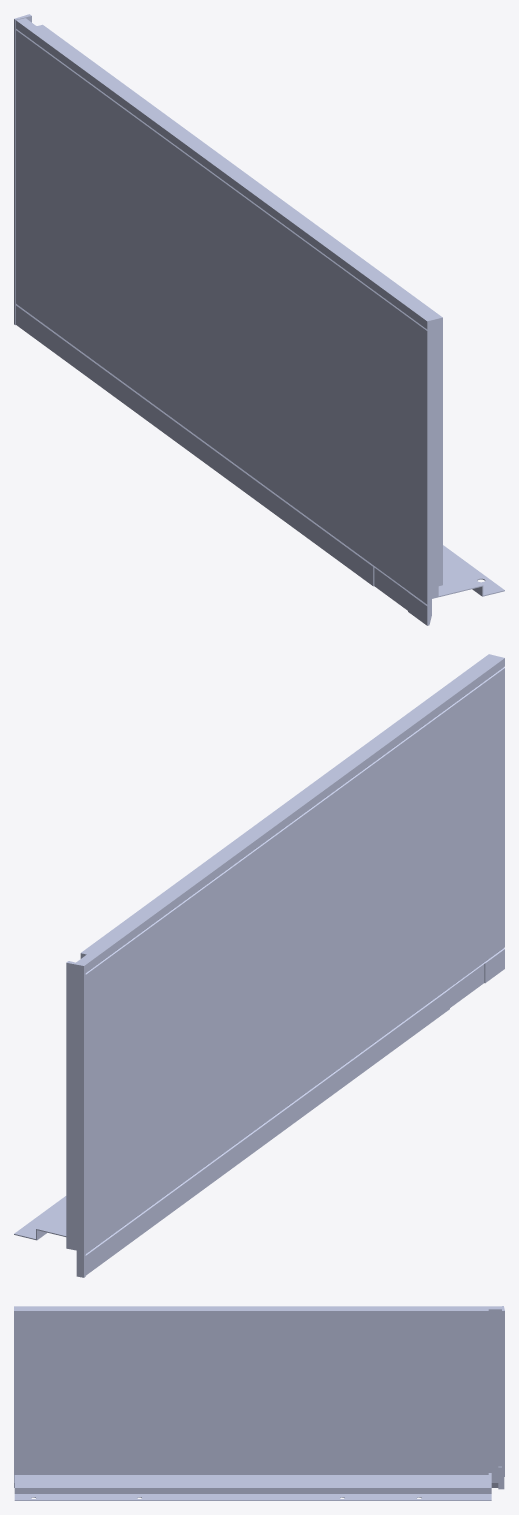
The model's file is lg-kava-F600-p.glb.
The picture shows the model from 3 angles, top to bottom: view 1: azimuth 30°, elevation 25°; view 2: azimuth 150°, elevation 25°; view 3: azimuth 270°, elevation 25°; orthographic projection. The views are drawn at different scales.
Parts seen in each view (by area): view 1: 41593675; view 2: 41593675; view 3: 41593675.
Boxes of the visible parts, left/top/right/bottom form: 41593675: left=14, top=14, right=504, bottom=625; 41593675: left=14, top=654, right=504, bottom=1277; 41593675: left=14, top=1306, right=504, bottom=1500.
Bounding box in the file's own units: 0.0653 × 0.2417 × 0.5935.
